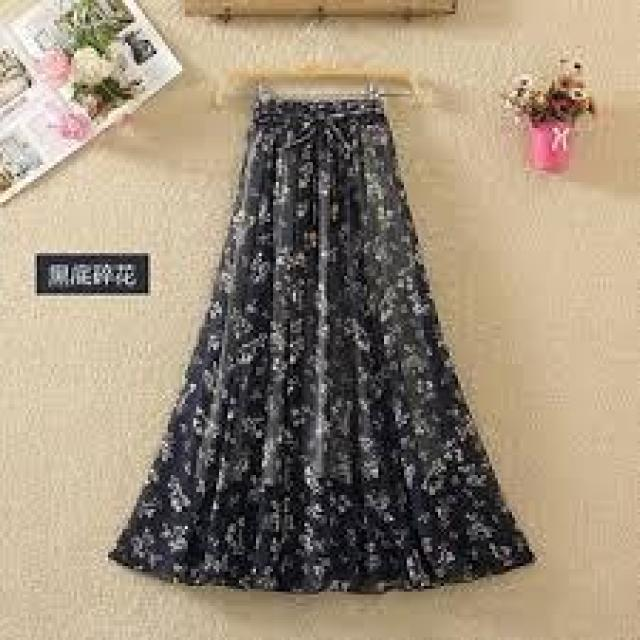skirt: (100, 96, 534, 592)
